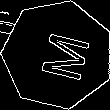M_W: (27, 26, 88, 84)
